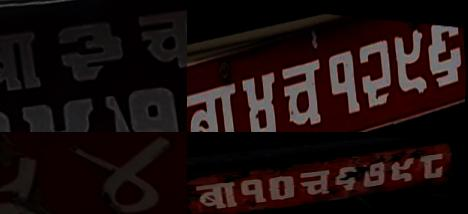0: (0, 22, 49, 99), (261, 173, 307, 203)
1: (325, 40, 364, 118), (235, 177, 276, 206)
2: (355, 30, 397, 112)
4: (63, 132, 187, 214), (239, 64, 283, 132)
5: (0, 135, 81, 214), (15, 87, 111, 132)
6: (423, 19, 468, 89), (328, 164, 370, 193)
7: (356, 160, 394, 187)
8: (415, 150, 456, 180)
9: (132, 0, 187, 75), (389, 16, 432, 100), (383, 153, 427, 185)
ba: (52, 10, 133, 87), (187, 75, 244, 132), (189, 178, 249, 212)
cha: (277, 50, 329, 132), (294, 168, 343, 200)
lu: (99, 77, 187, 132)
